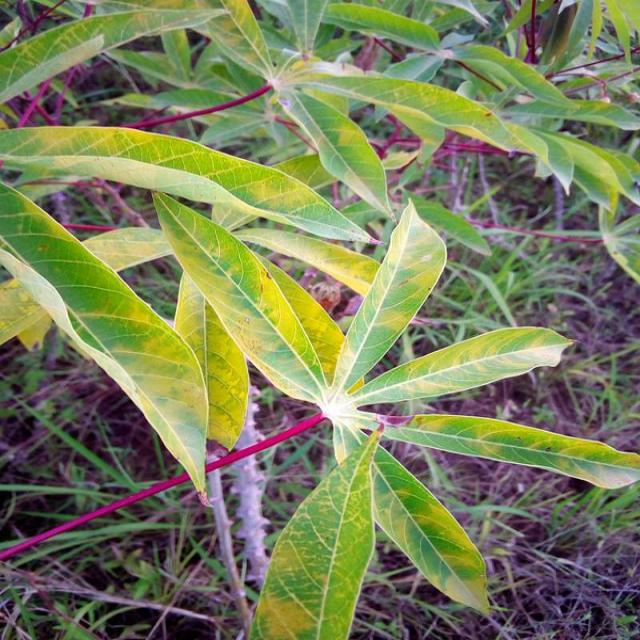cassava leaf: (0, 179, 210, 507), (0, 123, 379, 245), (150, 189, 348, 406), (332, 197, 447, 396), (172, 268, 250, 451)
